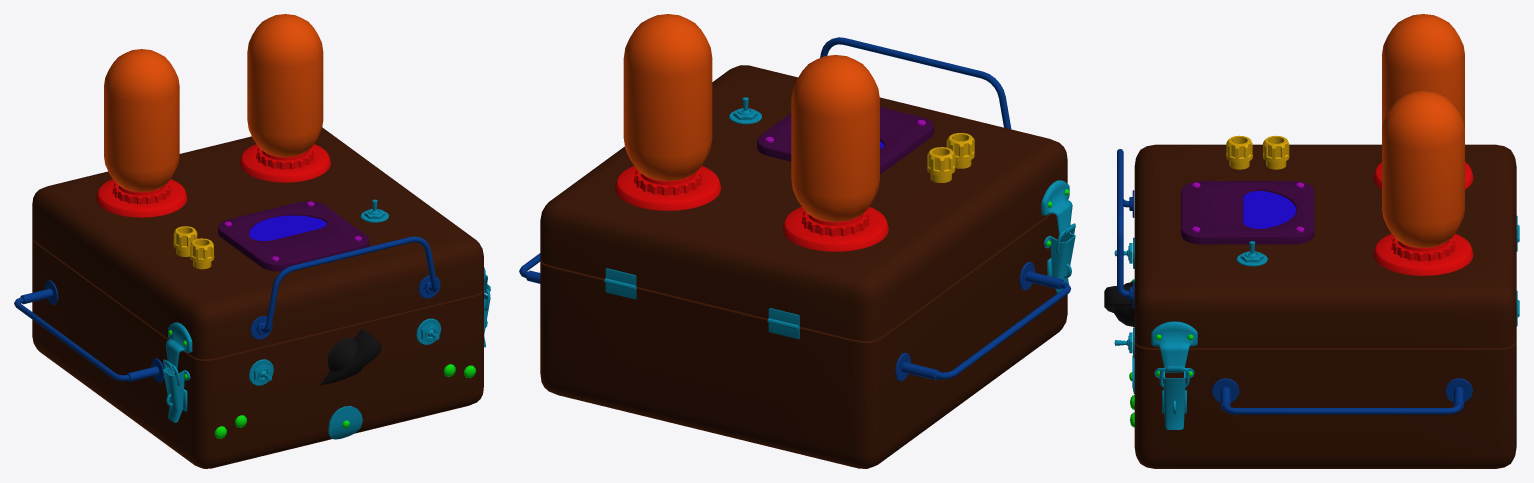
The model's file is TubeBox_Demo.fbx.
The picture shows the model from 3 angles, left to right: view 1: azimuth 30°, elevation 25°; view 2: azimuth 150°, elevation 25°; view 3: azimuth 270°, elevation 25°; orthographic projection. The views are drawn at different scales.
Parts seen in each view (by area): view 1: Sphere001; view 2: Sphere001; view 3: Sphere001.
Part boxes in pixels (<box>): Sphere001: <box>14,14,490,468</box>; Sphere001: <box>519,14,1075,468</box>; Sphere001: <box>1104,14,1519,468</box>.
Bounding box in the file's own units: 28.37 × 22.61 × 24.95.
